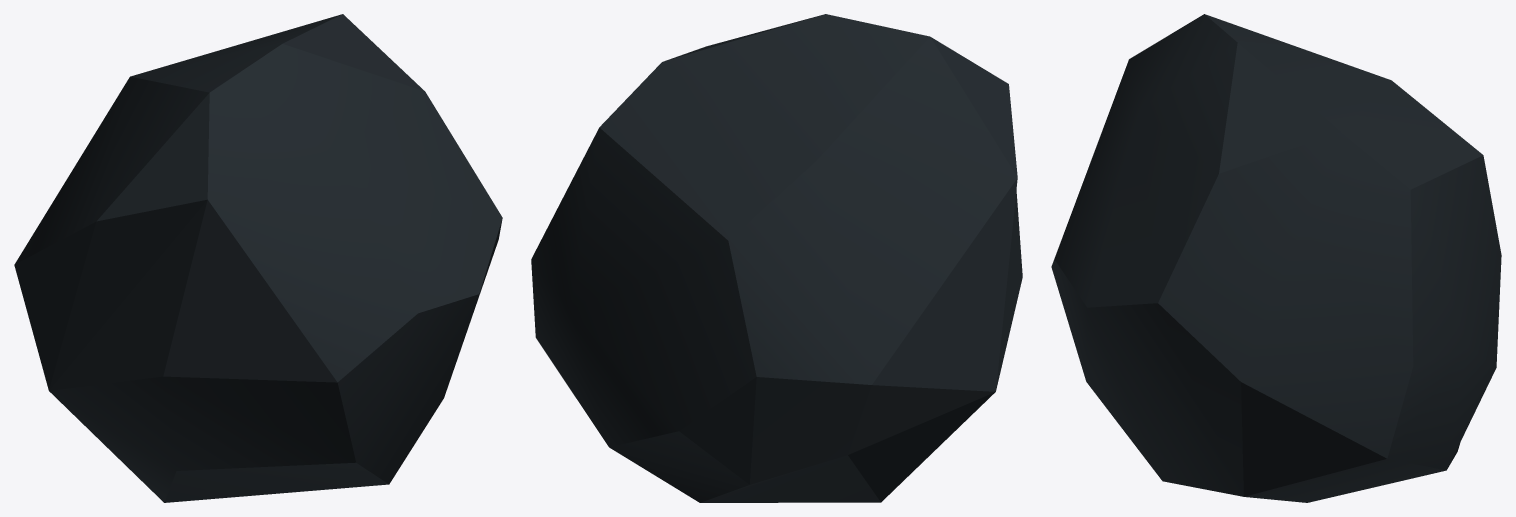
File: Asteroid_s_08.FBX
The picture shows the model from 3 angles, left to right: view 1: azimuth 30°, elevation 25°; view 2: azimuth 150°, elevation 25°; view 3: azimuth 270°, elevation 25°; orthographic projection. The views are drawn at different scales.
Visible parts, largest first — view 1: Asteroid_s_08; view 2: Asteroid_s_08; view 3: Asteroid_s_08.
Part boxes in pixels (x1,y1,x2,y2): Asteroid_s_08: (14,14,502,502); Asteroid_s_08: (531,14,1022,502); Asteroid_s_08: (1051,14,1501,502).
Bounding box in the file's own units: 160 × 166 × 155.
